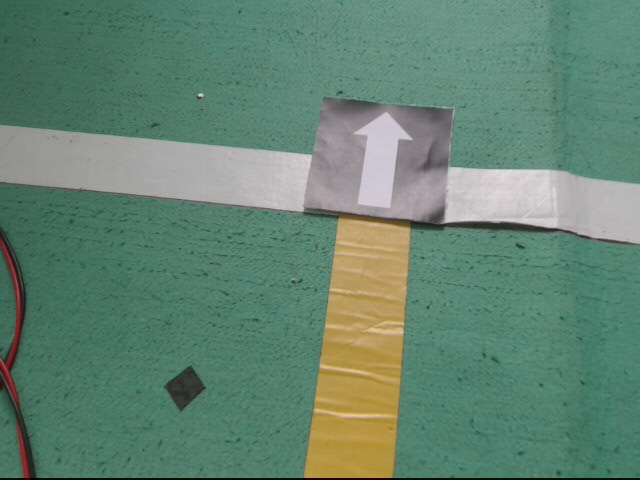straight: (298, 98, 450, 227)
